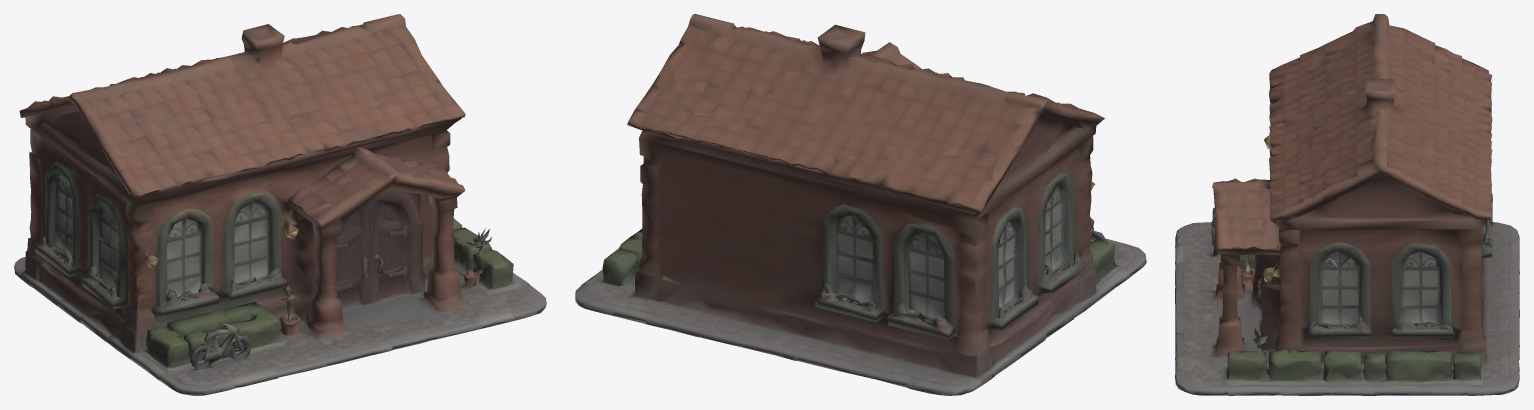
Rendered from library_main.glb.
The picture shows the model from 3 angles, left to right: view 1: azimuth 30°, elevation 25°; view 2: azimuth 150°, elevation 25°; view 3: azimuth 270°, elevation 25°; orthographic projection. The views are drawn at different scales.
Visible parts, largest first — view 1: tripo_node_459ce256-aab2-4663-ae72-e467d2d9a084; view 2: tripo_node_459ce256-aab2-4663-ae72-e467d2d9a084; view 3: tripo_node_459ce256-aab2-4663-ae72-e467d2d9a084.
Boxes of the visible parts, box(x1,y1,x2,y2) form: tripo_node_459ce256-aab2-4663-ae72-e467d2d9a084: box(14, 14, 546, 395); tripo_node_459ce256-aab2-4663-ae72-e467d2d9a084: box(575, 14, 1146, 395); tripo_node_459ce256-aab2-4663-ae72-e467d2d9a084: box(1175, 14, 1519, 395).
Size of the model in its own units: 1 by 0.6169 by 0.8494.
Materials: 1 (1 with a texture image).
